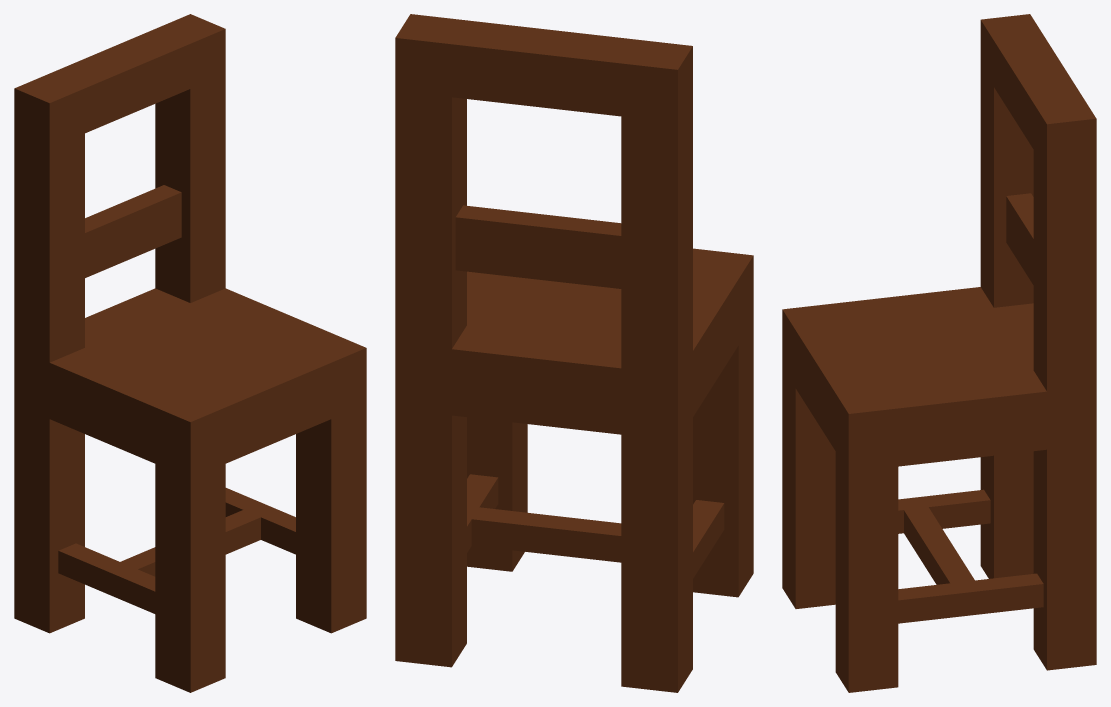
3 renders of one model, left to right at view 1: azimuth 30°, elevation 25°; view 2: azimuth 150°, elevation 25°; view 3: azimuth 270°, elevation 25°, orthographic. The views are drawn at different scales.
Visible parts, largest first — view 1: mergedBlocks(Clone); view 2: mergedBlocks(Clone); view 3: mergedBlocks(Clone).
Boxes of the visible parts, x1,y1,x2,y2 form: mergedBlocks(Clone): [14, 14, 366, 692]; mergedBlocks(Clone): [395, 14, 753, 692]; mergedBlocks(Clone): [782, 14, 1096, 692].
Size of the model in its own units: 0.3674 by 0.705 by 0.3674.
